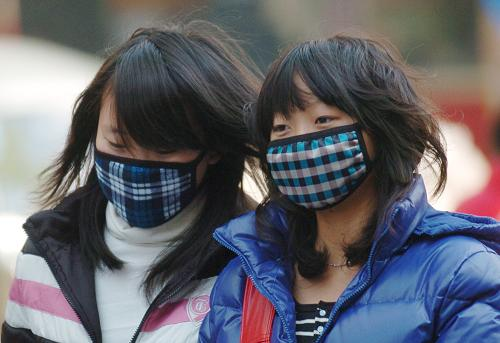face_mask: (94, 94, 203, 226), (267, 75, 368, 210)
